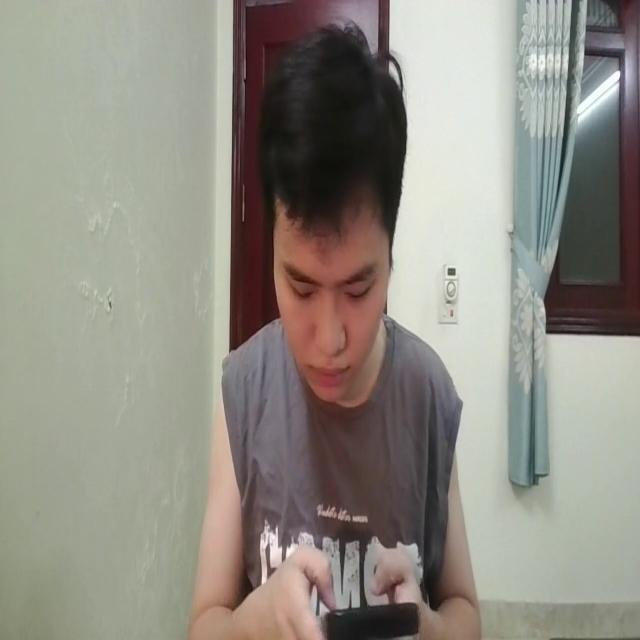phone: (320, 590, 421, 640)
student: (198, 28, 480, 640)
